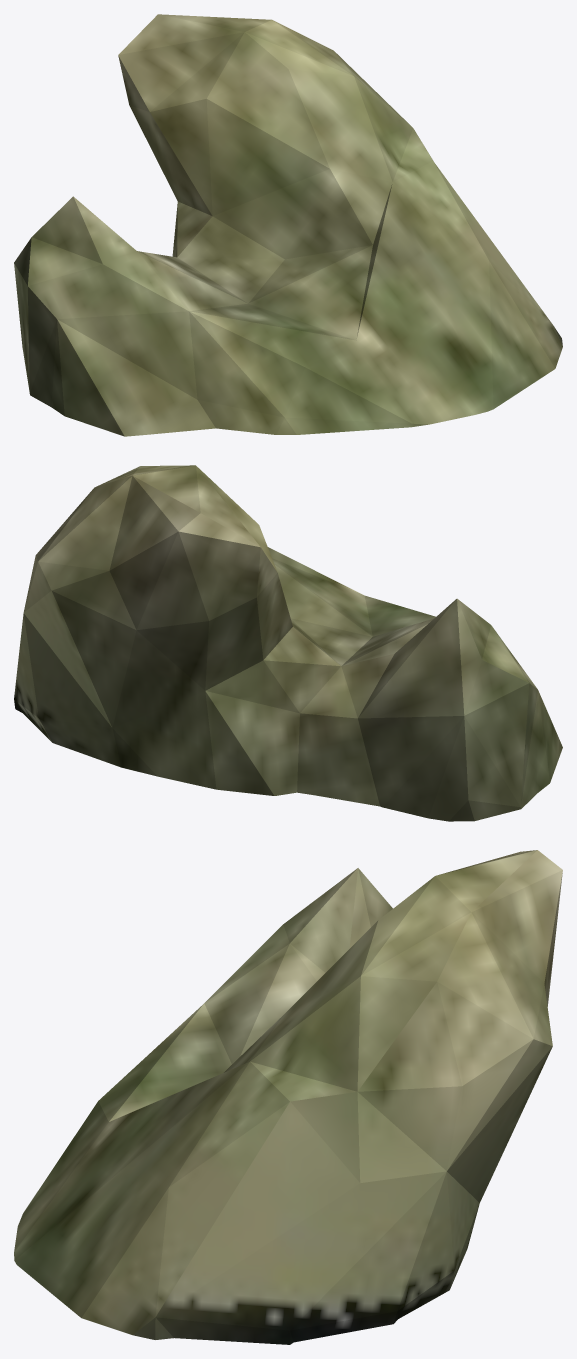
3 renders of one model, top to bottom at view 1: azimuth 30°, elevation 25°; view 2: azimuth 150°, elevation 25°; view 3: azimuth 270°, elevation 25°, orthographic. The views are drawn at different scales.
Bounding box in the file's own units: 1.53 × 0.8496 × 1.24.
1 material, 1 textured.
